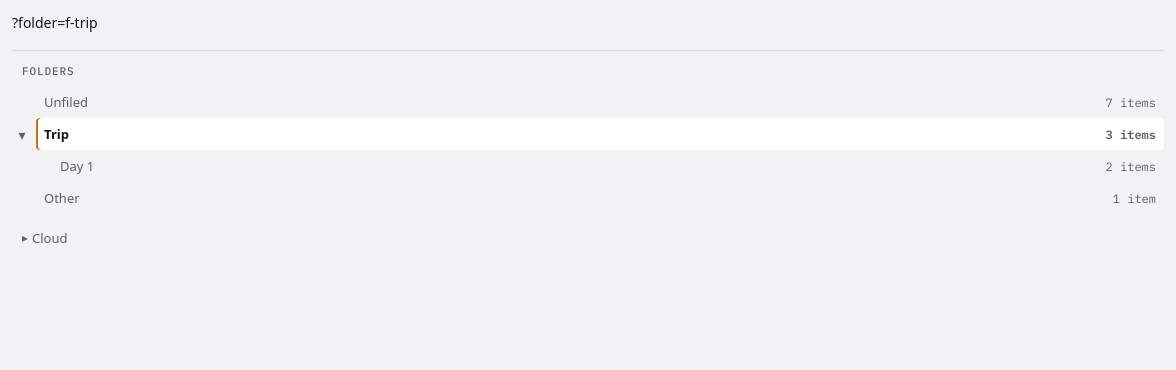
Test case: SidebarFolders — provider secondary › selecting a provider folder sets ?dir= and clears ?folder=
The width and height of the screenshot is (1176, 370).
Expected: the list item "▾ Trip 3 items" is shown, [12,118,1164,150]
Step 1. Click the button "▸ Cloud" → (50, 238), box [12,222,1164,254]
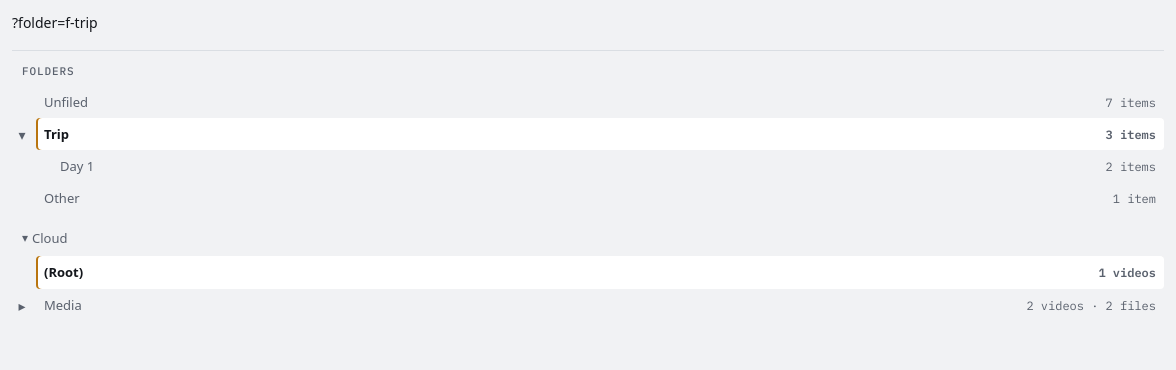
Step 2. Click the button named "Expand Media" → (22, 305), box [12,295,32,315]
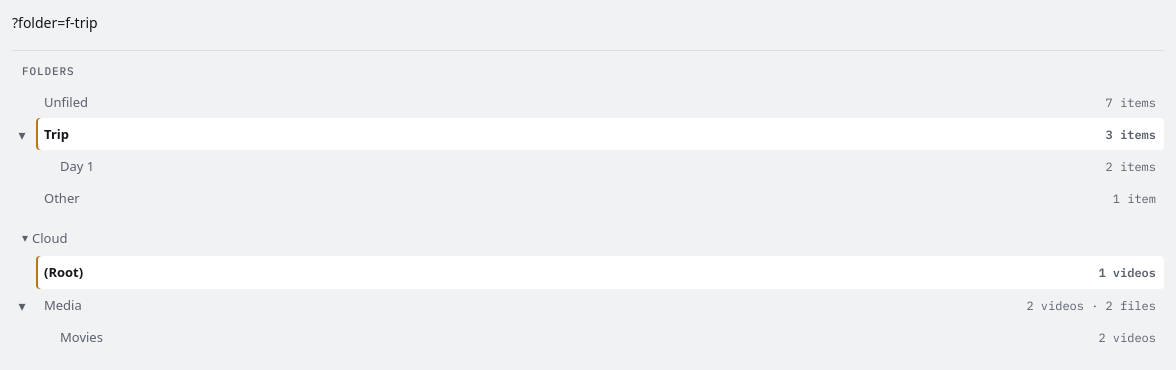
Step 3. Click the button "Movies 2 videos" → (81, 337), box [52,321,1164,353]
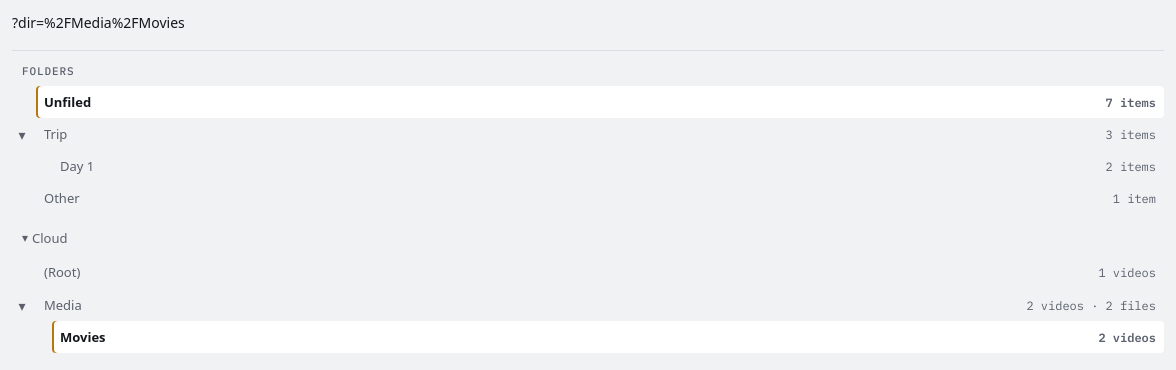
Expected: the text with test id "location" no longer shows "folder="
